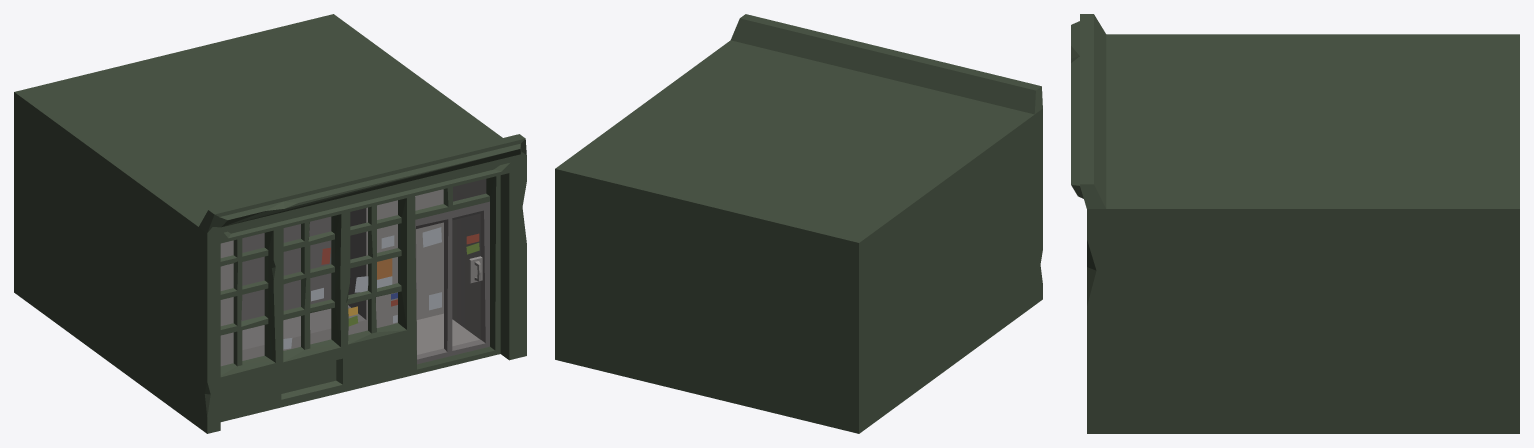
The model's file is SM_Bld_Shop_02.obj.
3 renders of one model, left to right at view 1: azimuth 30°, elevation 25°; view 2: azimuth 150°, elevation 25°; view 3: azimuth 270°, elevation 25°, orthographic. The views are drawn at different scales.
Parts seen in each view (by area): view 1: SM_Bld_Shop_02_0; view 2: SM_Bld_Shop_02_0; view 3: SM_Bld_Shop_02_0.
Part boxes in pixels (x1,y1,x2,y2): SM_Bld_Shop_02_0: (14,14,526,433); SM_Bld_Shop_02_0: (555,14,1042,433); SM_Bld_Shop_02_0: (1071,14,1519,433).
Bounding box in the file's own units: 5 × 3.3 × 5.43.
1 material, 1 textured.
